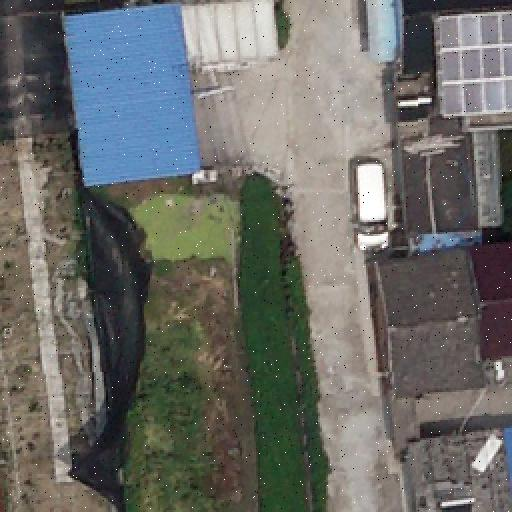solar-panel: (433, 11, 511, 117)
